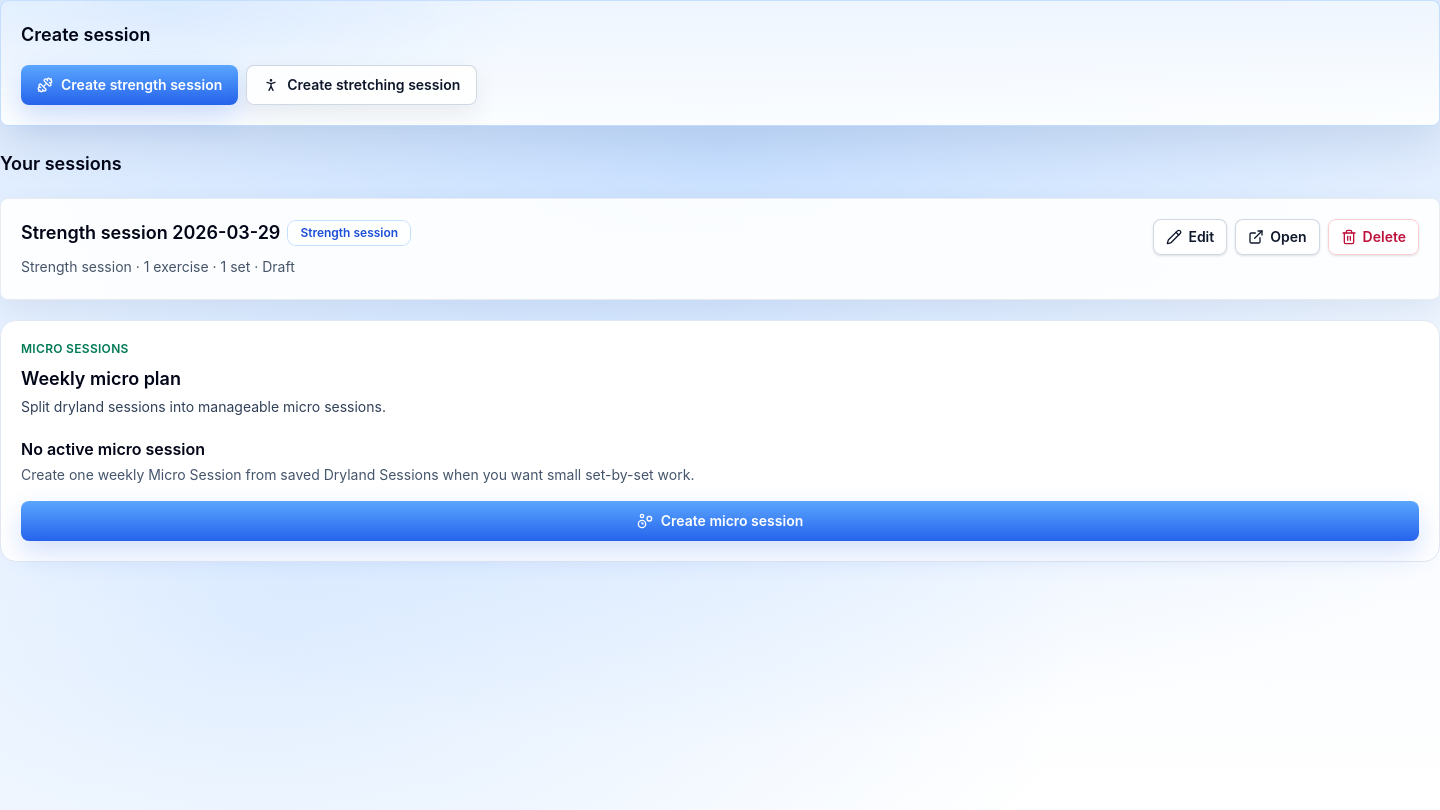
DrylandBuilderHub › browses and deletes a dryland session from the list view
Check: the link "Edit" is shown, box [1153, 219, 1227, 255]
Click the button with test id "dryland-delete-session-11111111-1111-4111-8111-111111111111" at (1373, 237), box [1328, 219, 1419, 255]
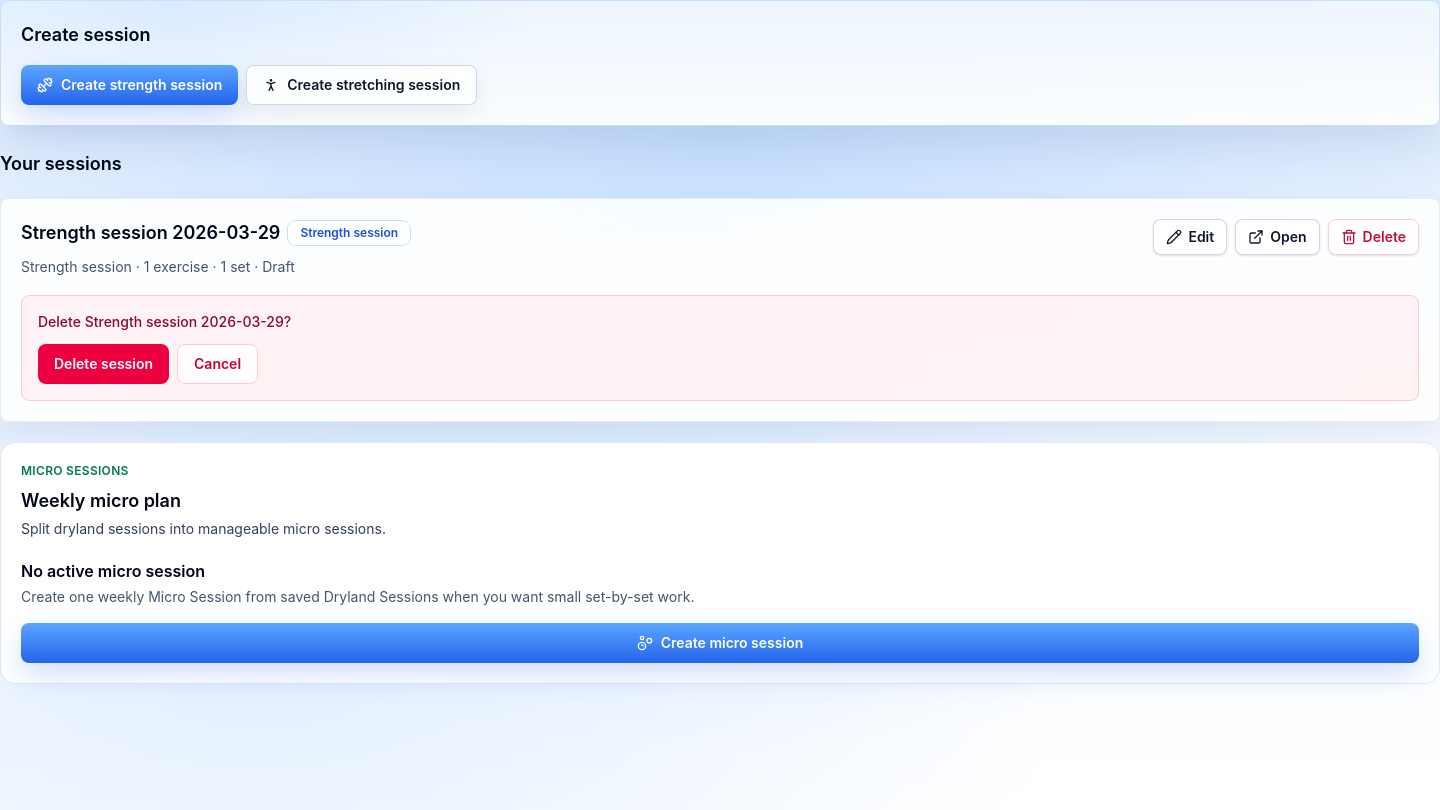
Click the button with test id "dryland-confirm-delete-session-11111111-1111-4111-8111-111111111111" at (104, 364), box [38, 344, 169, 384]
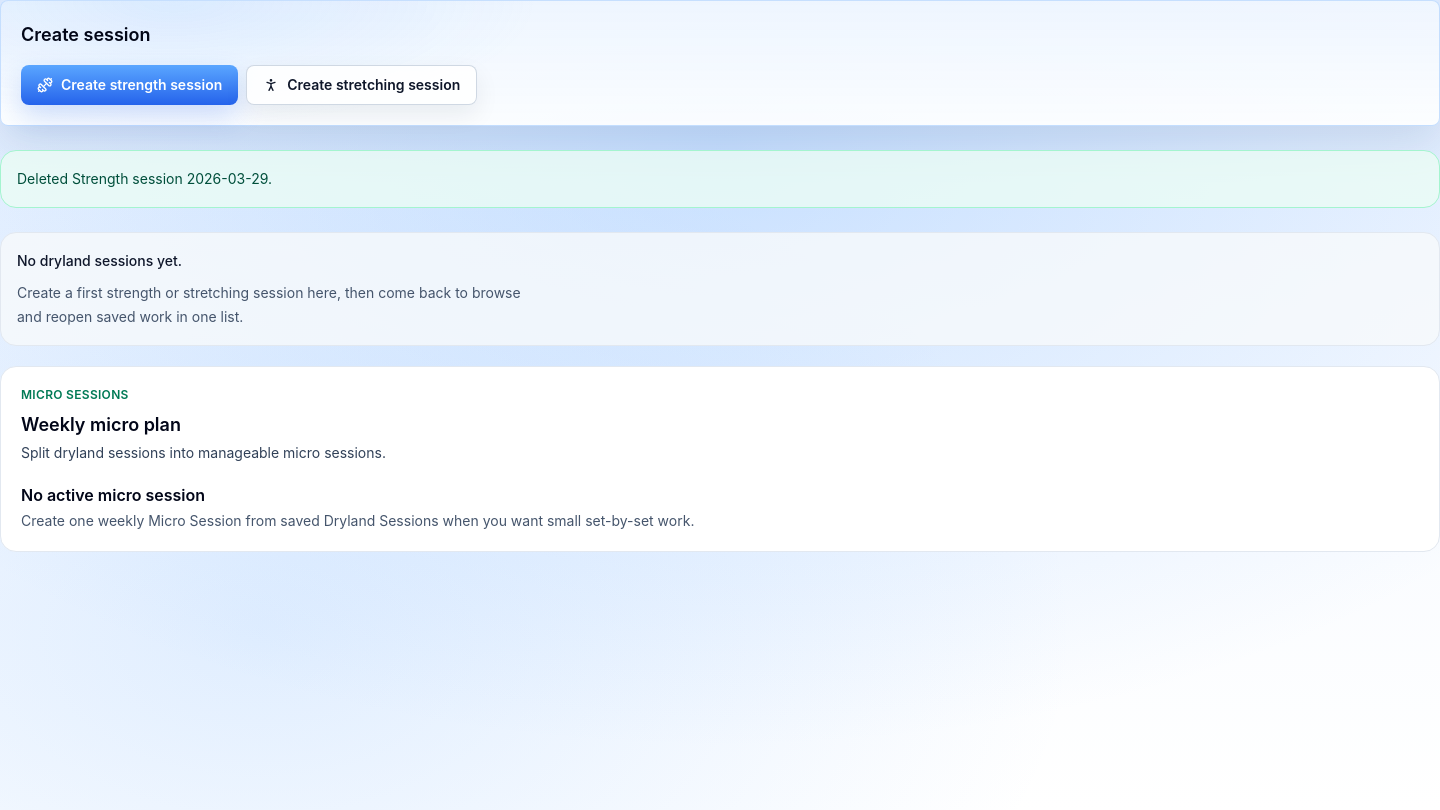
Check: the message with test id "dryland-builder-action-success" reads "Deleted Strength session 2026-03-29.", box [17, 170, 272, 187]
